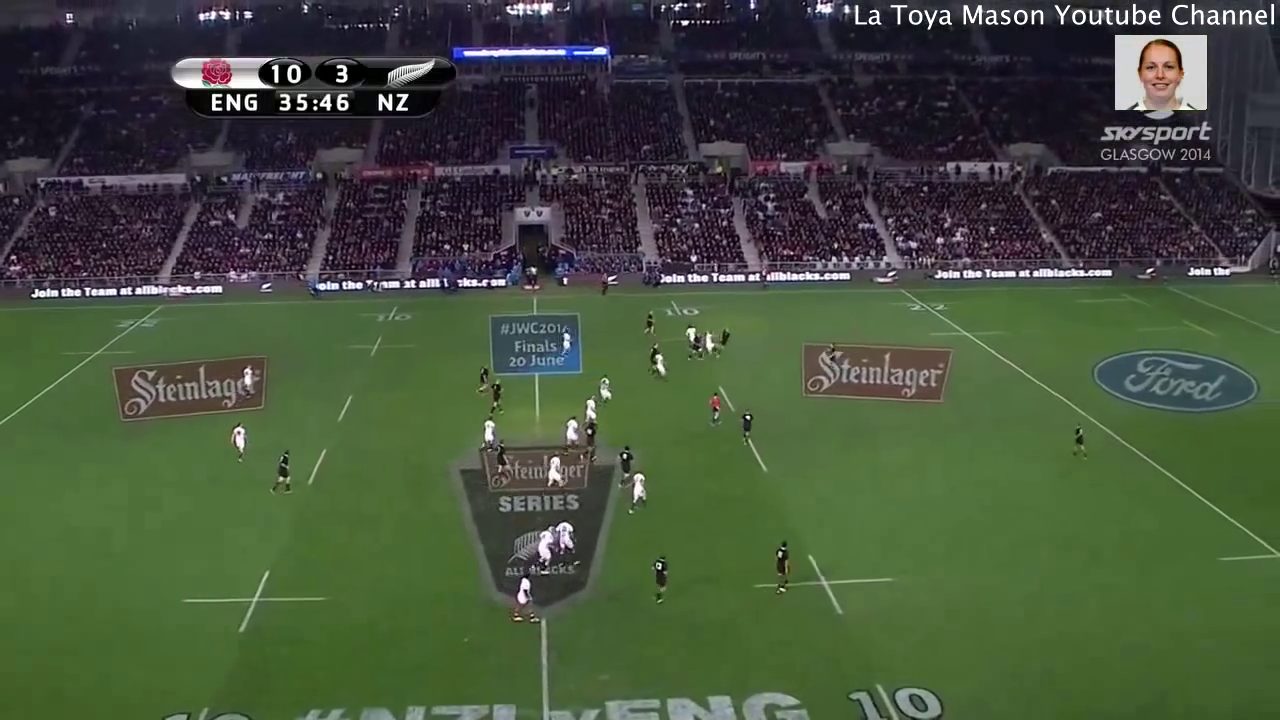10_metre: (175, 564, 343, 637), (753, 550, 897, 618), (830, 673, 961, 720), (333, 330, 421, 357), (349, 300, 434, 326), (644, 297, 721, 319)
player: (265, 440, 305, 507), (761, 530, 797, 603), (646, 549, 679, 613), (510, 567, 541, 630), (224, 411, 254, 464), (556, 409, 587, 460), (554, 514, 582, 570), (533, 521, 561, 577), (542, 450, 569, 500), (1067, 416, 1095, 464), (626, 467, 651, 519), (609, 444, 636, 490), (490, 433, 513, 485), (477, 411, 502, 456), (469, 361, 496, 402), (578, 416, 600, 466), (578, 393, 607, 429), (734, 403, 755, 449), (595, 371, 618, 410), (487, 378, 508, 420), (706, 389, 725, 432), (639, 308, 661, 345), (716, 319, 738, 354), (698, 324, 720, 358), (824, 334, 842, 375), (684, 330, 703, 366), (241, 359, 256, 403), (558, 326, 577, 360), (645, 343, 660, 381), (682, 319, 699, 346), (656, 351, 670, 382)
